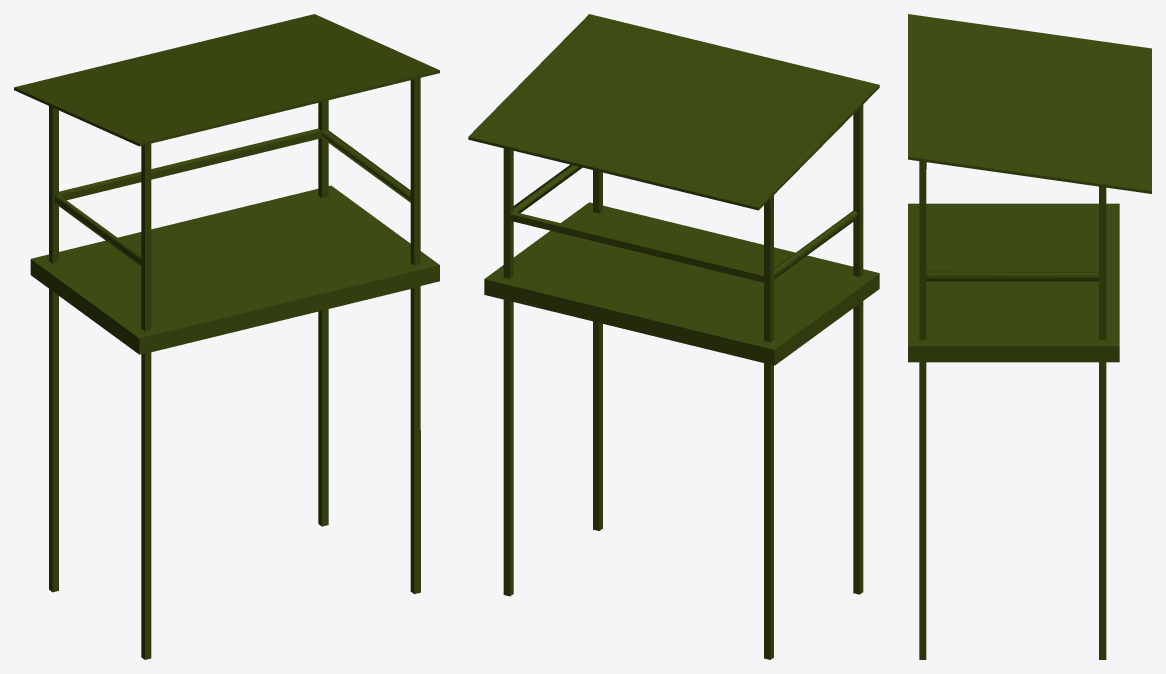
The model's file is T2_CamHut02_M.fbx.
The picture shows the model from 3 angles, left to right: view 1: azimuth 30°, elevation 25°; view 2: azimuth 150°, elevation 25°; view 3: azimuth 270°, elevation 25°; orthographic projection. The views are drawn at different scales.
Visible parts, largest first — view 1: T2_CamHut02; view 2: T2_CamHut02; view 3: T2_CamHut02.
Boxes of the visible parts, box(x1,y1,x2,y2) form: T2_CamHut02: box(14, 14, 439, 659); T2_CamHut02: box(468, 14, 879, 659); T2_CamHut02: box(908, 14, 1151, 659).
Size of the model in its own units: 1.87 by 3.11 by 1.35.
